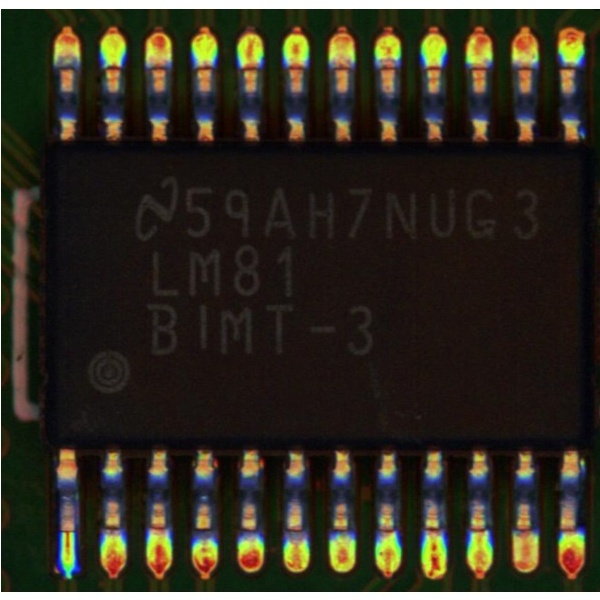Bad_podu: (425, 521, 440, 551), (472, 514, 485, 544), (243, 54, 258, 79), (150, 55, 167, 77), (517, 512, 528, 543), (379, 53, 395, 74), (287, 56, 303, 77), (334, 55, 351, 73), (60, 524, 72, 545)
